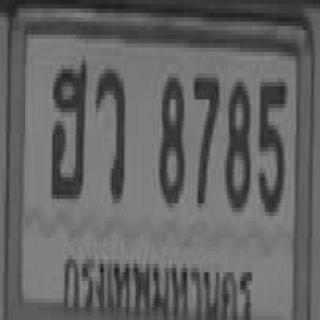A37: (94, 65, 124, 199)
A44: (49, 58, 85, 197)
N05: (257, 78, 285, 212)
N07: (192, 74, 218, 203)
N08: (224, 78, 249, 208), (158, 71, 183, 201)
P04: (59, 245, 256, 320)
